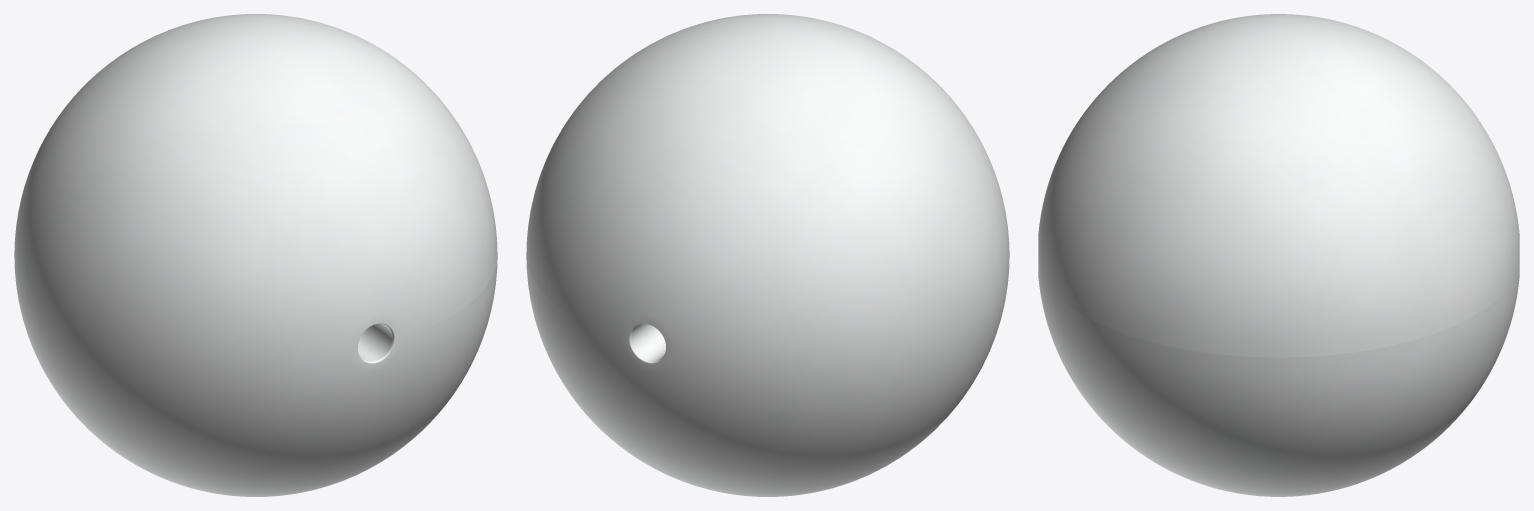
Rendered from clear-quartz-12mm.glb.
3 renders of one model, left to right at view 1: azimuth 30°, elevation 25°; view 2: azimuth 150°, elevation 25°; view 3: azimuth 270°, elevation 25°, orthographic.
Parts seen in each view (by area): view 1: clear-quartz.001; view 2: clear-quartz.001; view 3: clear-quartz.001.
Boxes of the visible parts, box(x1,y1,x2,y2) form: clear-quartz.001: box(14, 14, 497, 496); clear-quartz.001: box(526, 14, 1009, 496); clear-quartz.001: box(1038, 14, 1519, 496).
Bounding box in the file's own units: 0.012 × 0.012 × 0.012.
2 materials, 1 textured.
